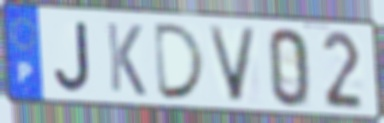0: (267, 26, 311, 109)
2: (319, 28, 369, 112)
D: (152, 21, 209, 102)
J: (52, 19, 93, 94)
K: (103, 20, 148, 99)
V: (205, 23, 260, 104)
